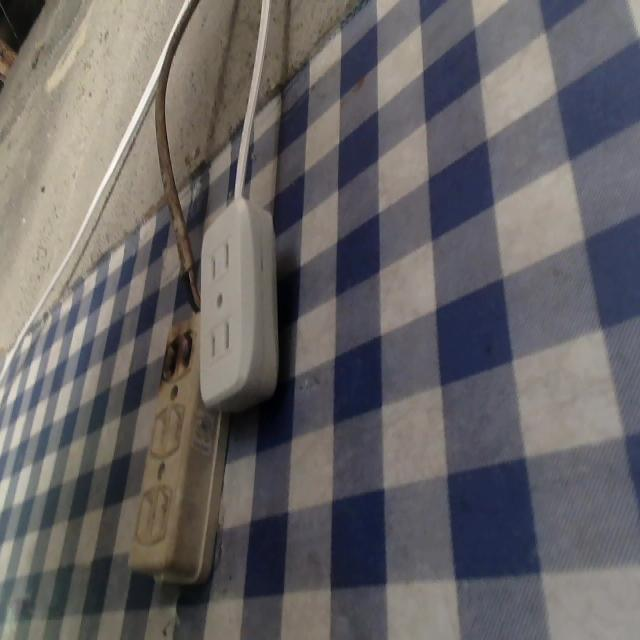-: (157, 327, 202, 380)
